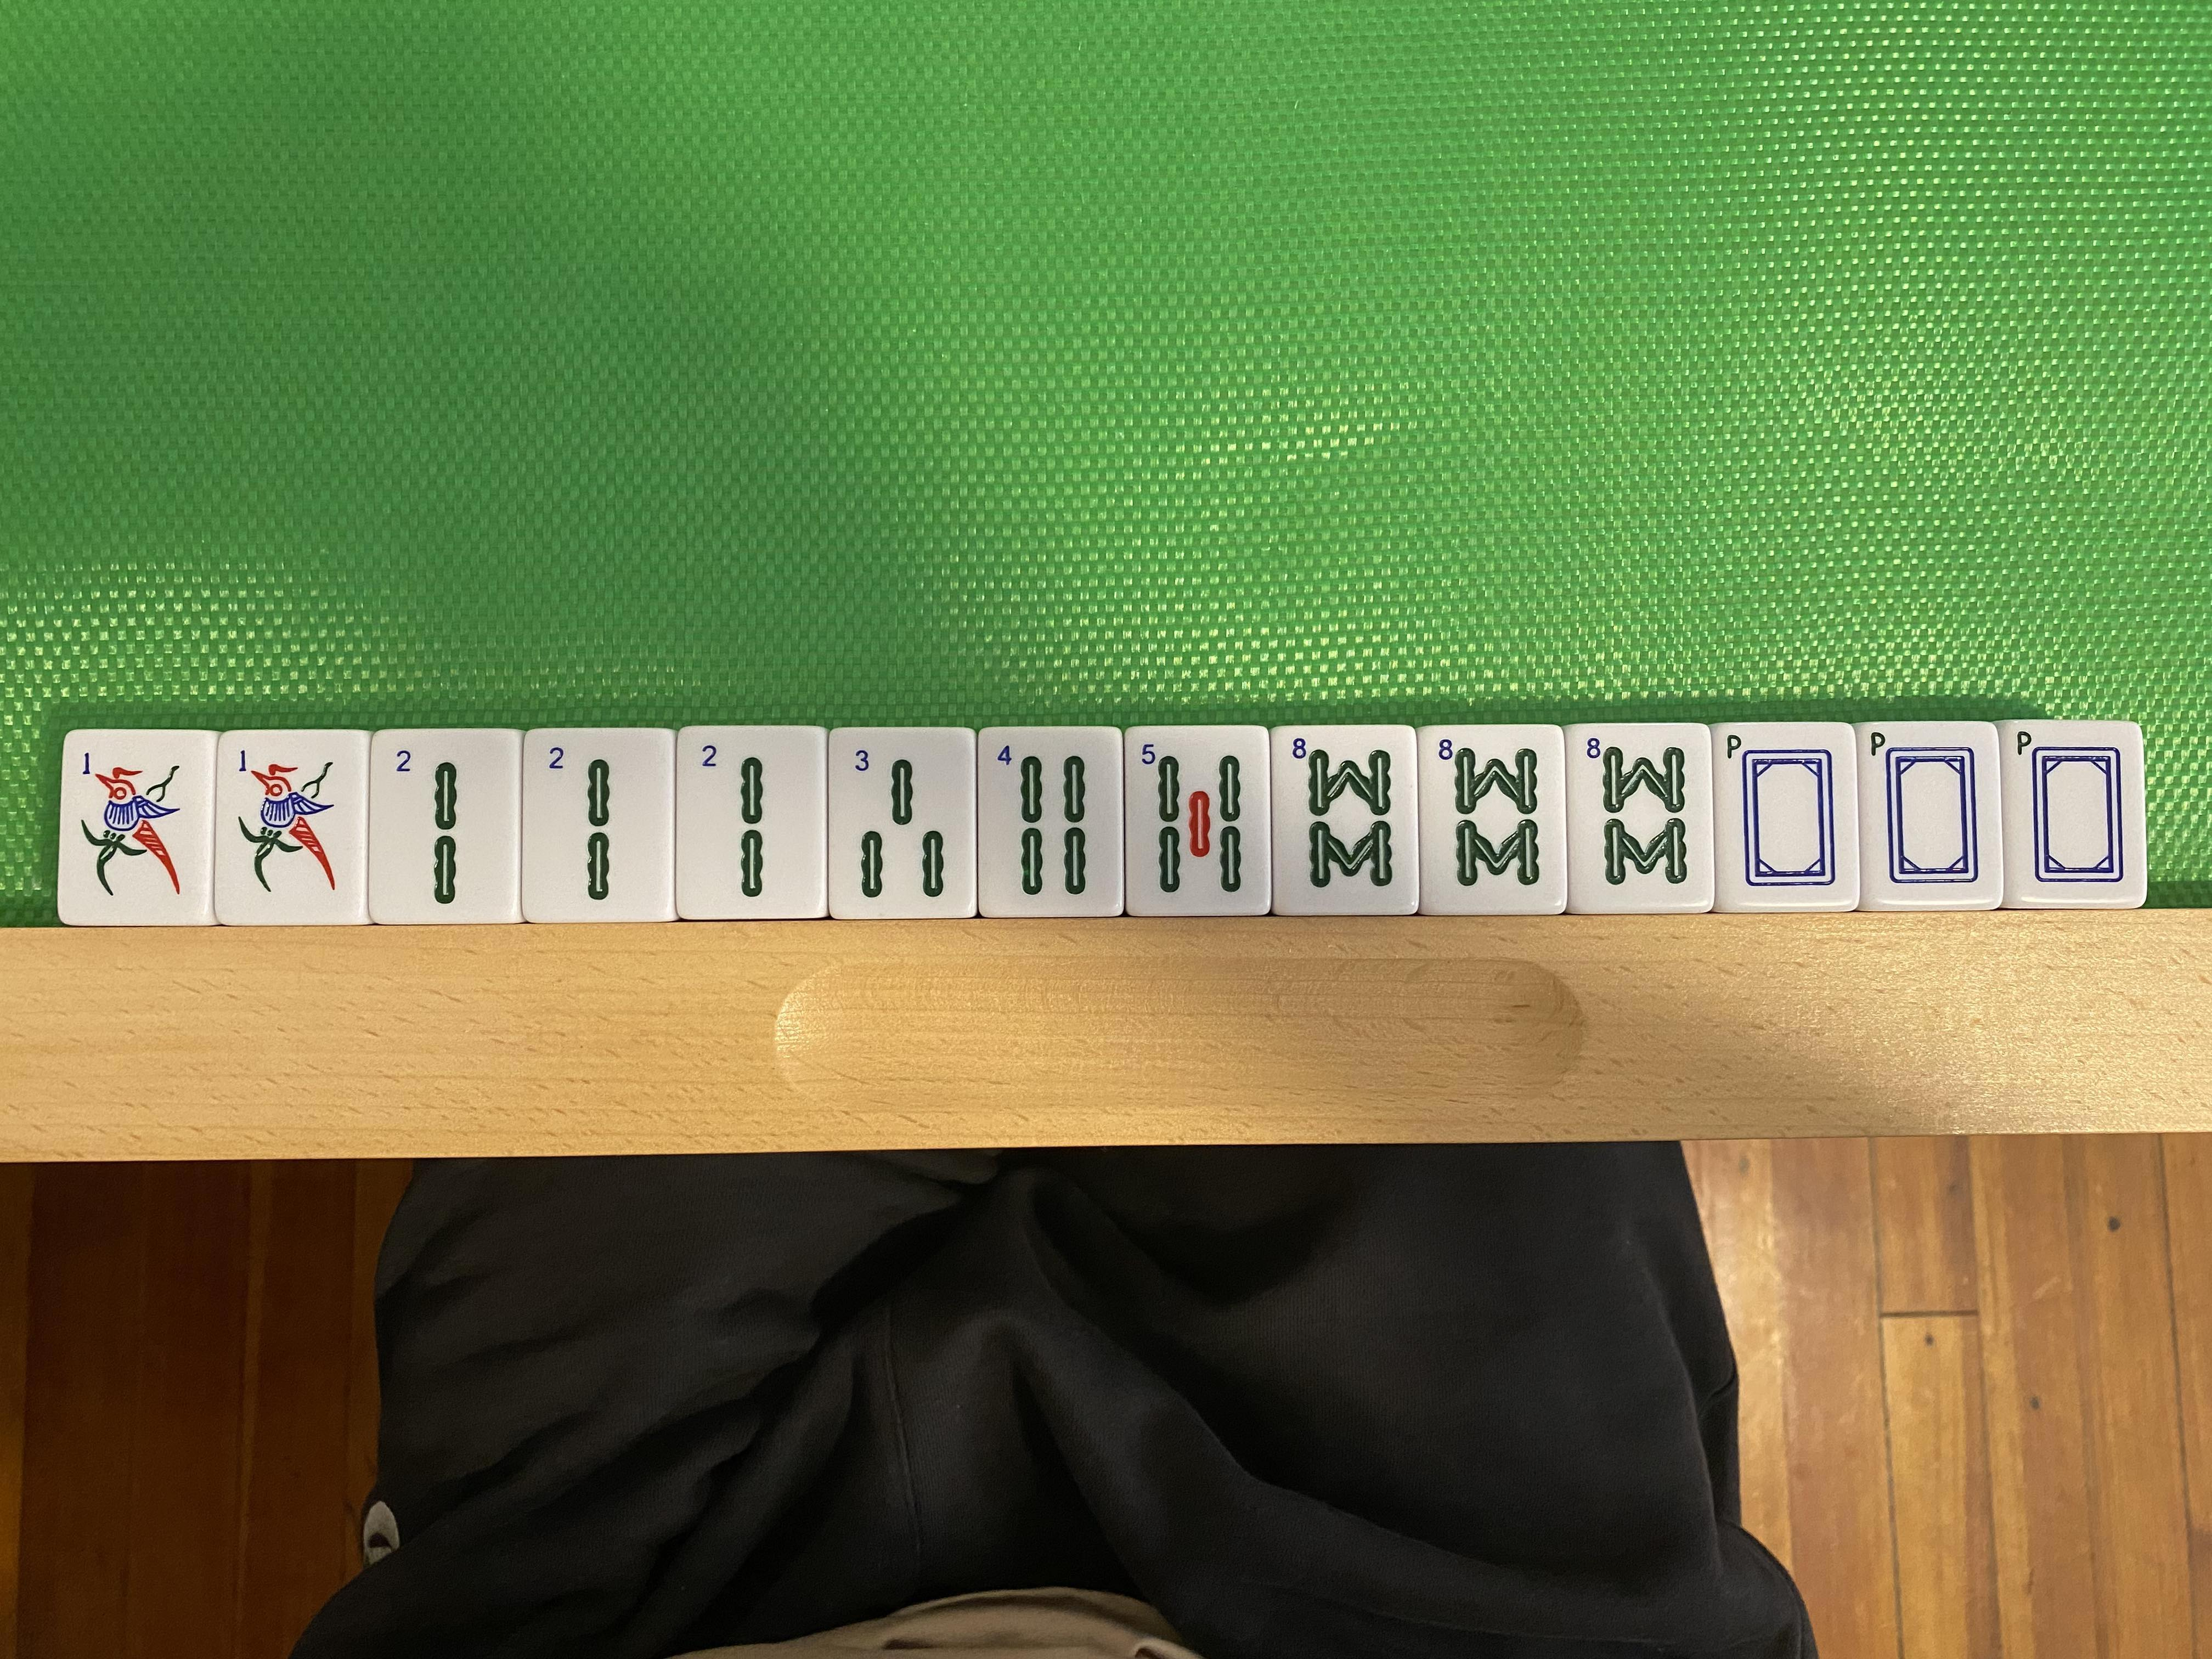bamboo-eight: (1425, 727, 1559, 908), (1578, 728, 1702, 903), (1284, 734, 1404, 908)
bamboo-five: (1132, 734, 1261, 904)
bamboo-four: (981, 734, 1116, 904)
bamboo-one: (221, 734, 361, 913), (66, 739, 190, 904)
bamboo-three: (833, 735, 961, 906)
bamboo-two: (381, 739, 512, 911), (528, 739, 658, 906), (688, 734, 815, 904)
honor-blue_dragon: (2008, 725, 2141, 903), (1724, 727, 1850, 906), (1865, 727, 1993, 901)
